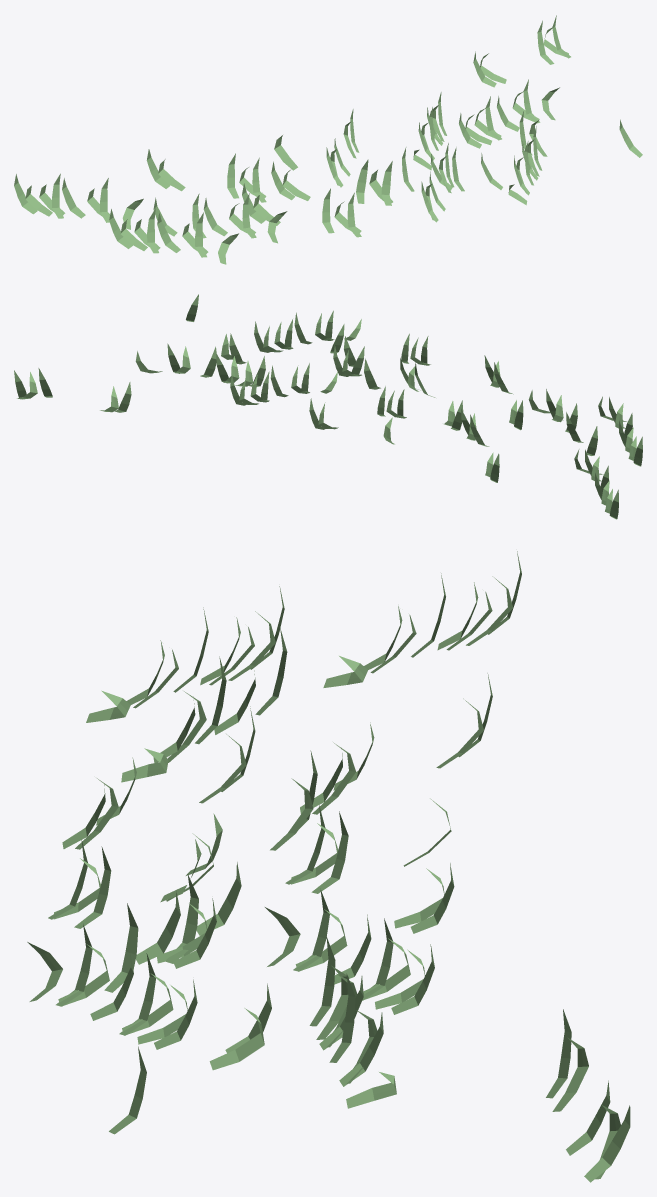
File: ER_Asset_Grass.fbx
The picture shows the model from 3 angles, top to bottom: view 1: azimuth 30°, elevation 25°; view 2: azimuth 150°, elevation 25°; view 3: azimuth 270°, elevation 25°; orthographic projection. The views are drawn at different scales.
Parts seen in each view (by area): view 1: polySurface4123; view 2: polySurface4123; view 3: polySurface4123.
Boxes of the visible parts, left/top/right/bottom form: polySurface4123: left=14, top=15, right=642, bottom=264; polySurface4123: left=14, top=294, right=642, bottom=519; polySurface4123: left=27, top=551, right=630, bottom=1182.
Size of the model in its own units: 7.26 by 0.5004 by 3.3.
